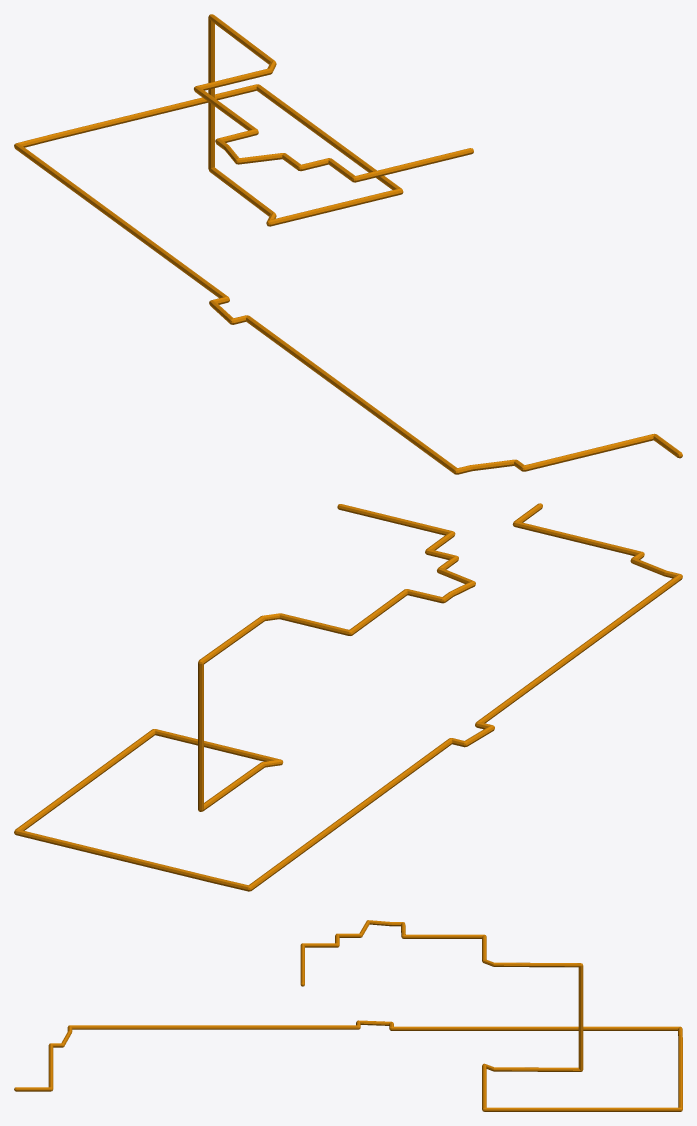
3 views of the same model, one above another, from view 1: azimuth 30°, elevation 25°; view 2: azimuth 150°, elevation 25°; view 3: azimuth 270°, elevation 25° (orthographic). The views are drawn at different scales.
Size of the model in its own units: 912 by 520 by 2898.
